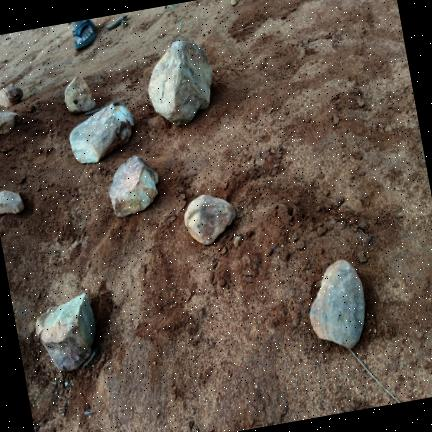Rocks: (147, 41, 211, 125), (309, 261, 364, 348), (35, 294, 94, 371), (69, 104, 133, 163), (109, 156, 157, 217), (183, 195, 234, 245), (64, 76, 95, 114), (0, 191, 23, 215), (0, 84, 22, 108), (0, 112, 20, 134), (357, 251, 366, 263), (233, 236, 242, 247), (357, 220, 365, 230), (357, 98, 364, 107), (332, 115, 338, 125), (230, 0, 236, 6)
